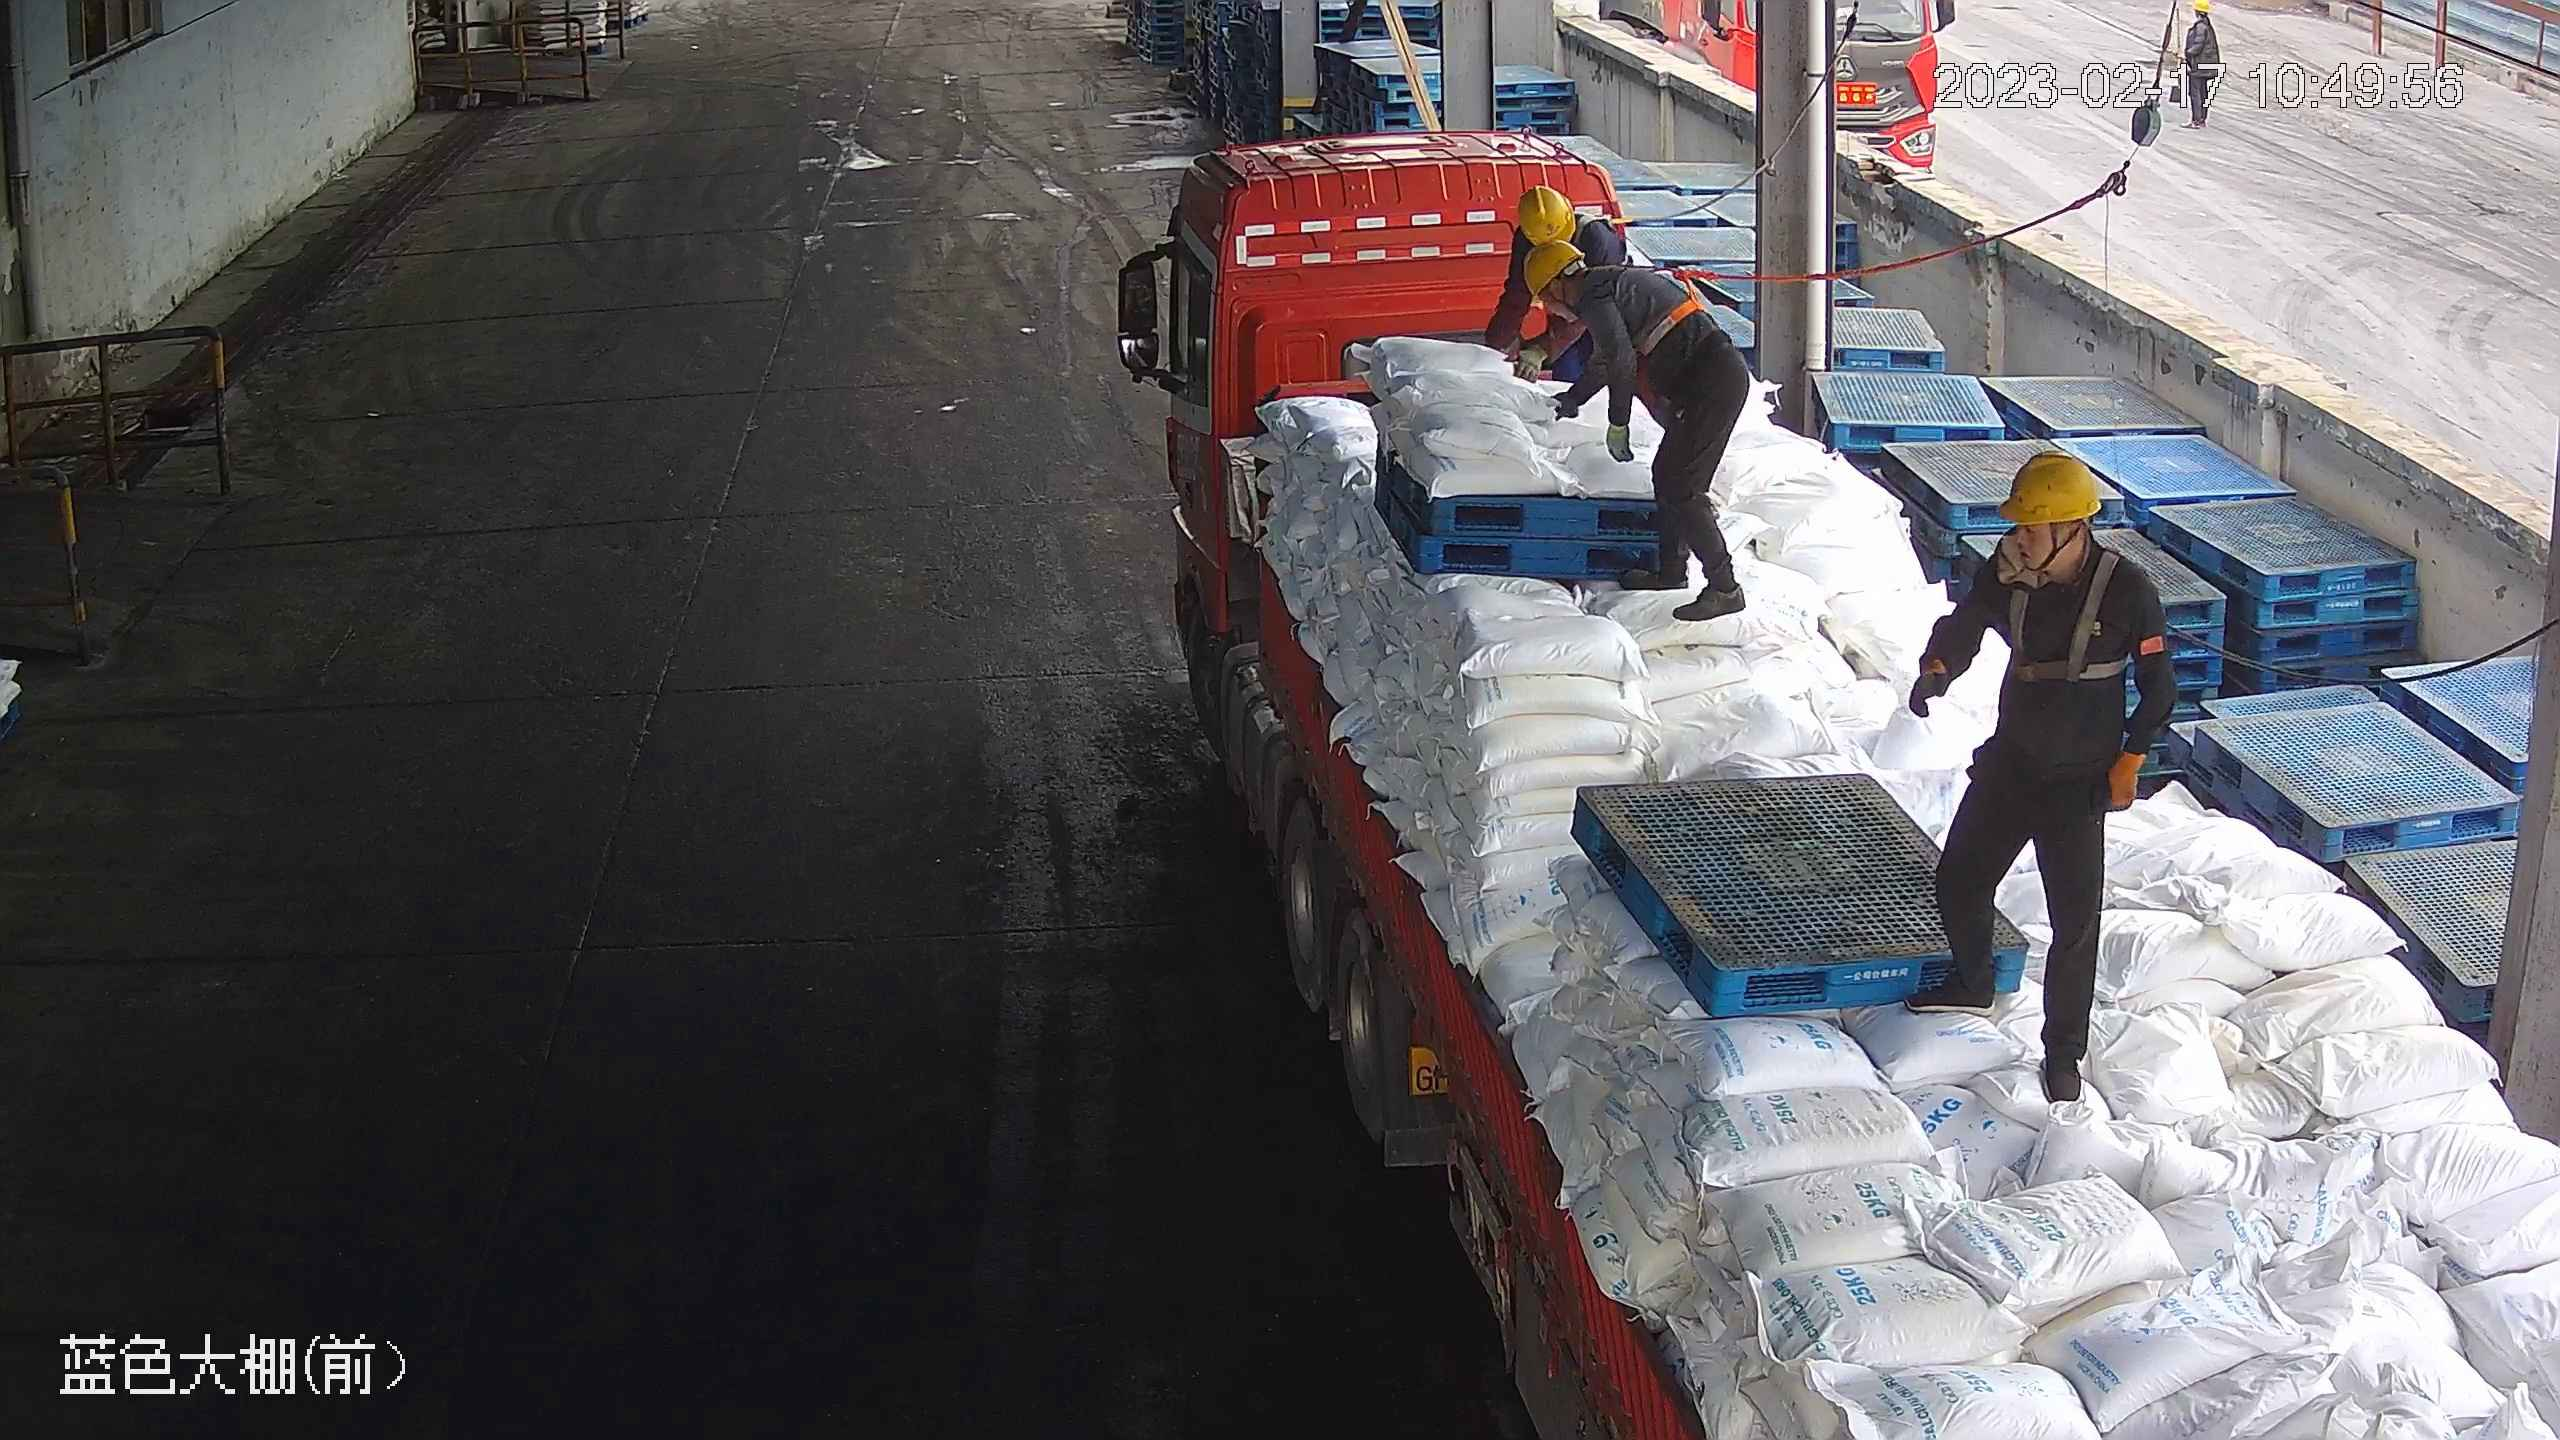belt: (1992, 547, 2159, 683), (1599, 262, 1709, 355), (1574, 212, 1637, 272)
head: (1967, 448, 2161, 615), (1523, 240, 1657, 331)
helmet: (1994, 448, 2106, 524), (1516, 213, 1578, 285), (1519, 241, 1583, 302), (1514, 183, 1576, 244)
people: (1900, 445, 2179, 1101), (1522, 238, 1756, 623)
truck: (1111, 130, 2554, 1437)
